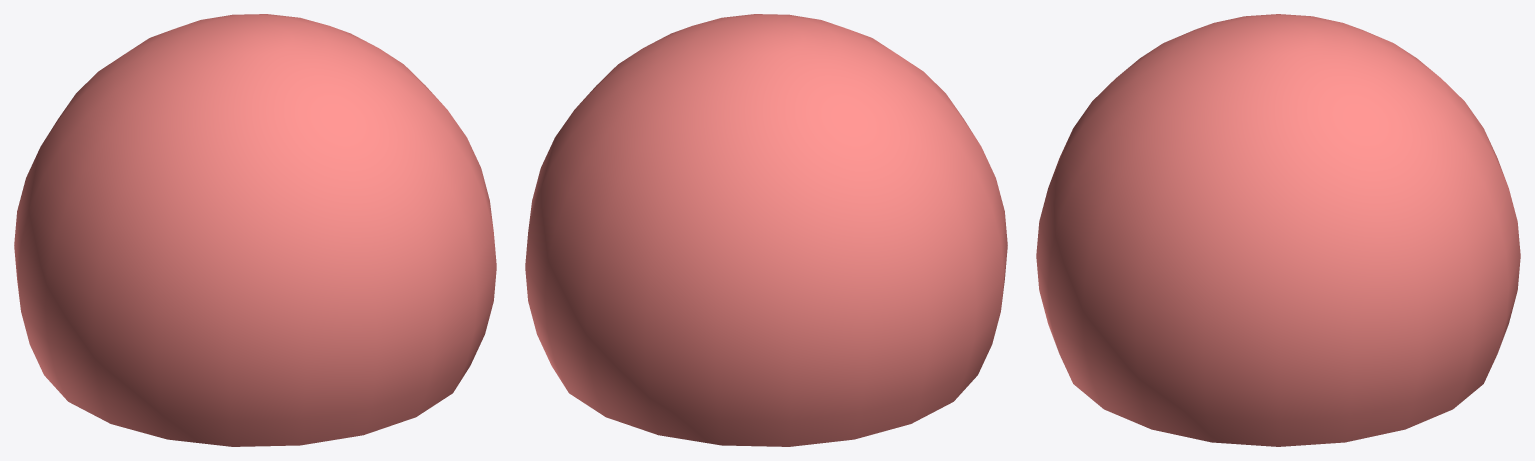
The model's file is char_shieldgenerator_pre.glb.
The picture shows the model from 3 angles, left to right: view 1: azimuth 30°, elevation 25°; view 2: azimuth 150°, elevation 25°; view 3: azimuth 270°, elevation 25°; orthographic projection.
Visible parts, largest first — view 1: shield_skin_mesh; view 2: shield_skin_mesh; view 3: shield_skin_mesh.
Part boxes in pixels (left/top/right/bottom): shield_skin_mesh: left=14, top=14, right=496, bottom=446; shield_skin_mesh: left=525, top=14, right=1007, bottom=446; shield_skin_mesh: left=1036, top=14, right=1520, bottom=446.
Size of the model in its own units: 2.96 by 2.16 by 2.96.
Materials: 2 (2 with a texture image).
